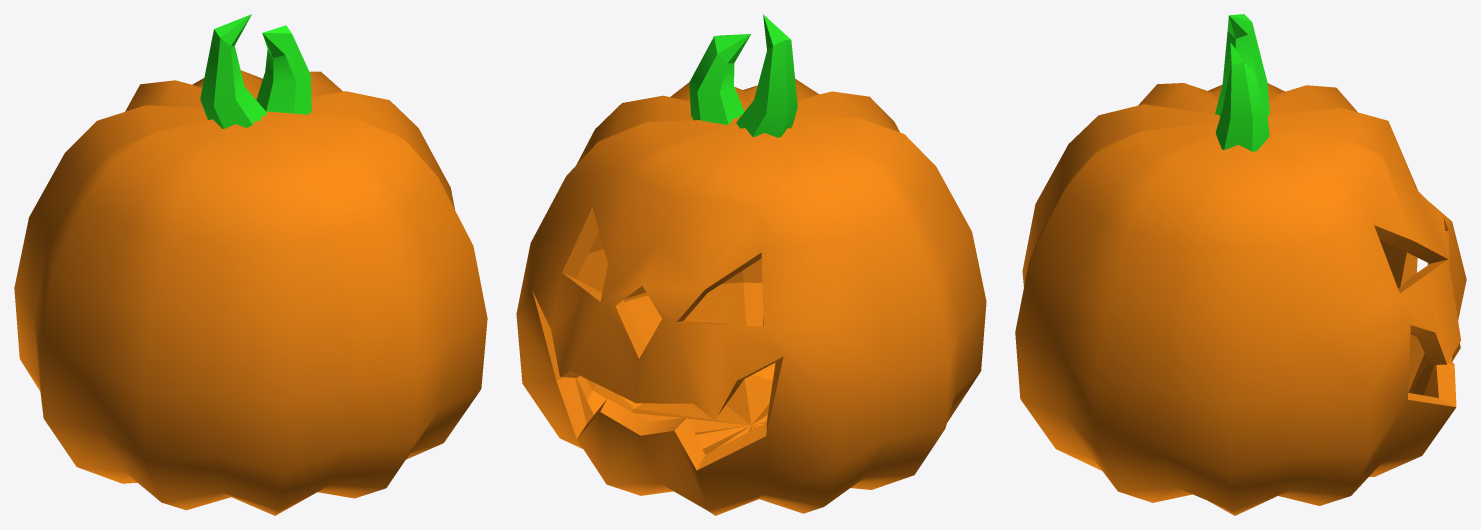
File: Abobora_05_Base.fbx
3 renders of one model, left to right at view 1: azimuth 30°, elevation 25°; view 2: azimuth 150°, elevation 25°; view 3: azimuth 270°, elevation 25°, orthographic. The views are drawn at different scales.
Visible parts, largest first — view 1: Abobora_05; view 2: Abobora_05; view 3: Abobora_05.
Boxes of the visible parts, box(x1,y1,x2,y2) form: Abobora_05: box(14, 14, 487, 515); Abobora_05: box(516, 14, 986, 515); Abobora_05: box(1015, 14, 1466, 515).
Size of the model in its own units: 31.37 by 32.36 by 30.24.
